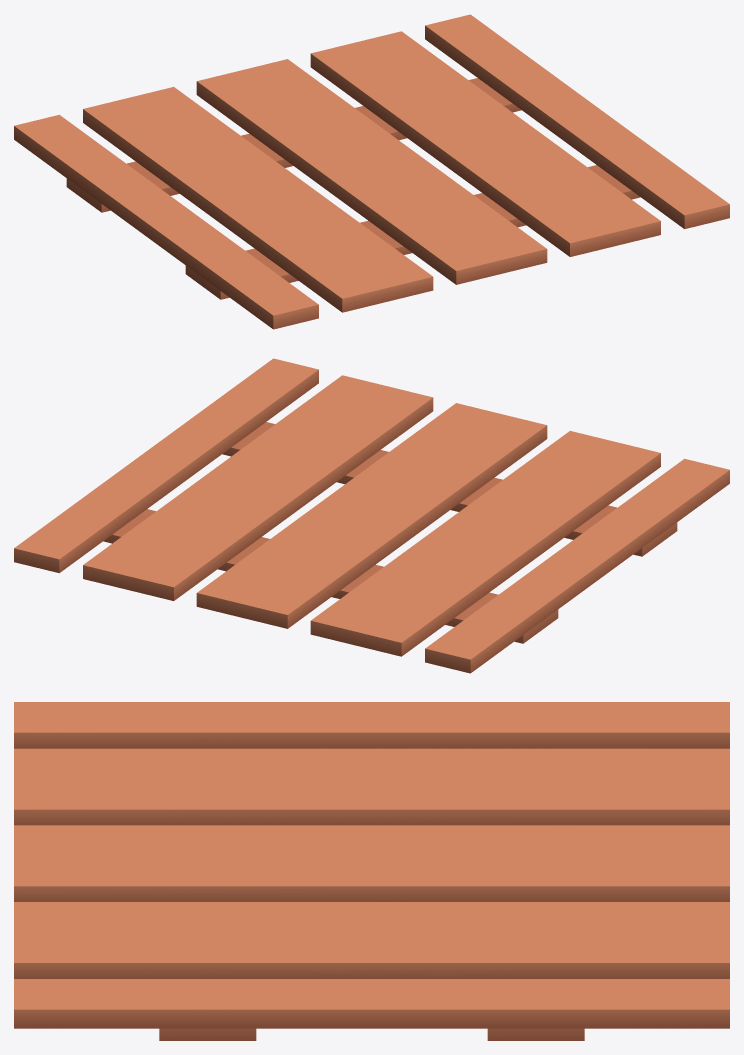
The model's file is group.003_lev3.glb.
The picture shows the model from 3 angles, top to bottom: view 1: azimuth 30°, elevation 25°; view 2: azimuth 150°, elevation 25°; view 3: azimuth 270°, elevation 25°; orthographic projection. The views are drawn at different scales.
Visible parts, largest first — view 1: group.003_lev3; view 2: group.003_lev3; view 3: group.003_lev3.
Part boxes in pixels (x1,y1,x2,y2): group.003_lev3: (14, 14, 729, 329); group.003_lev3: (14, 358, 729, 673); group.003_lev3: (14, 702, 729, 1040).
Size of the model in its own units: 7.06 by 0.3356 by 6.94.
Materials: 1 (1 with a texture image).
